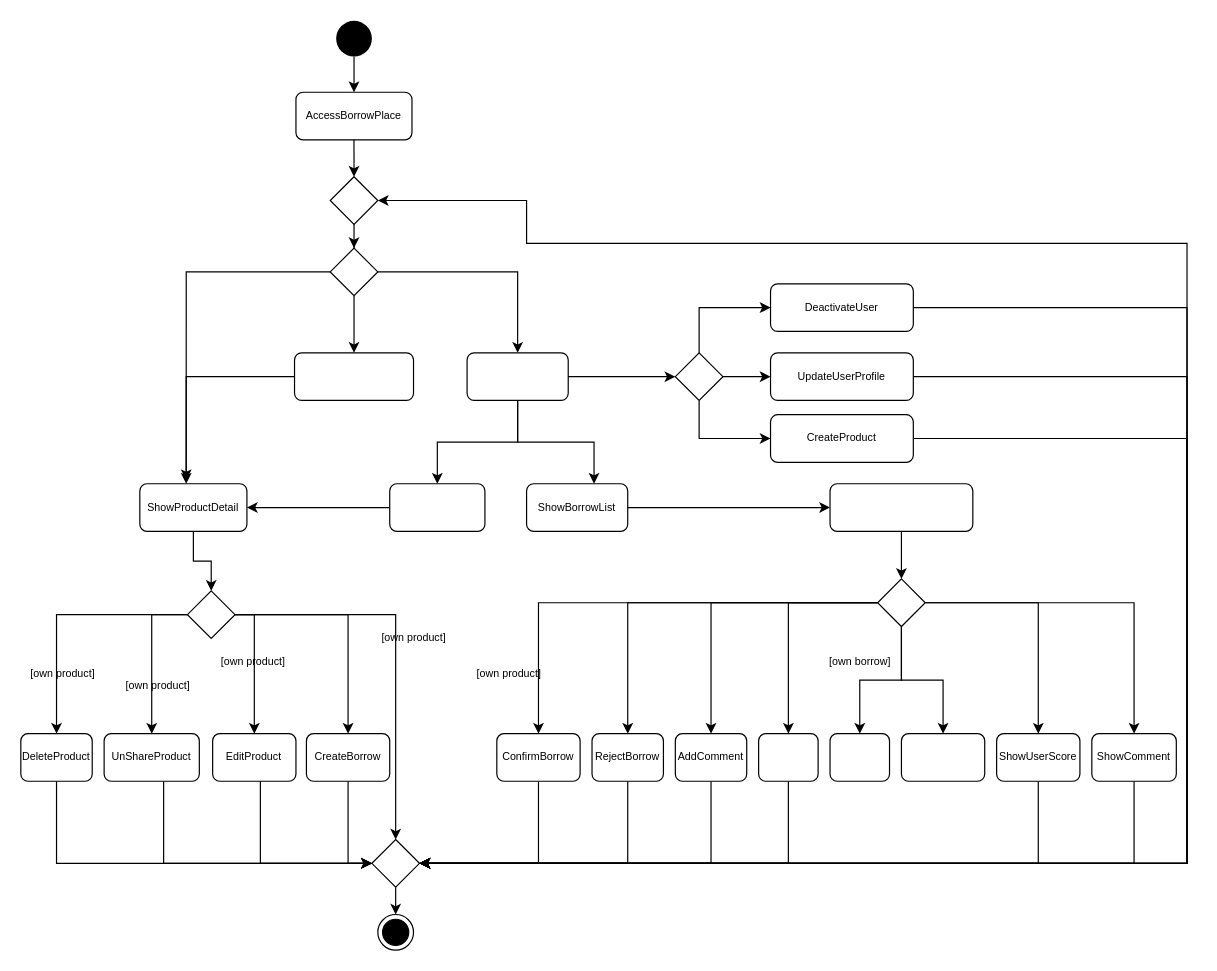
This 1217x971 diagram has some shape labels left out. Each missing label, with the centre of its shape:
"CloseBorrow" goes at (942,756).
"EditBorrow" goes at (859,756).
"SearchBorrowPlace" goes at (353,376).
"SetScore" goes at (787,756).
"ShowBorrowDetail" goes at (901,507).
"ShowProductList" goes at (437,507).
"ShowUserProfile" goes at (517,376).
